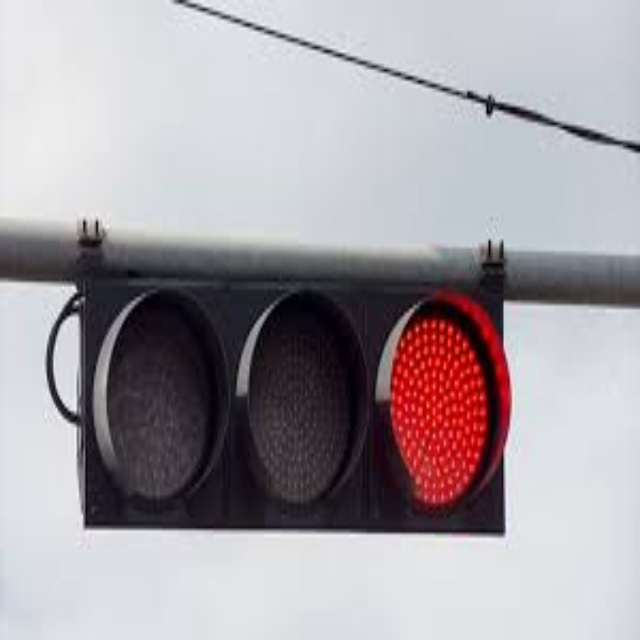red_light: (386, 320, 505, 512)
